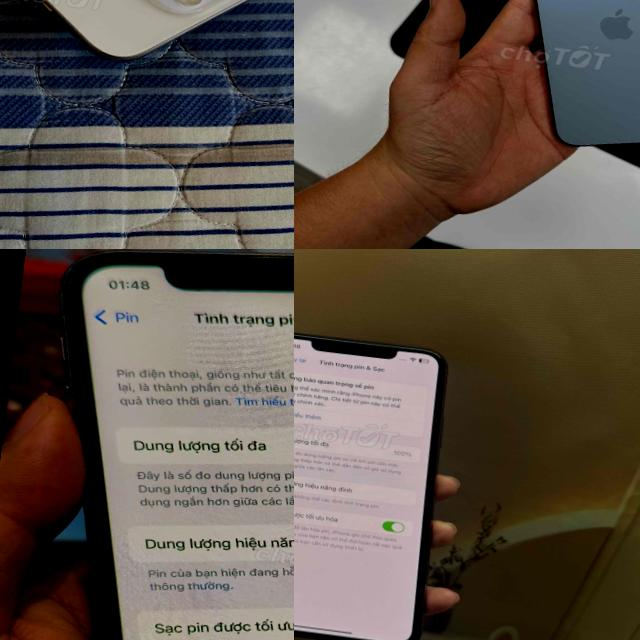gen_11: (294, 333, 446, 640), (312, 337, 396, 358)
gen_12_13: (490, 0, 640, 167)
gen_15: (0, 0, 294, 85)
gen_x_xs: (0, 249, 294, 640)
